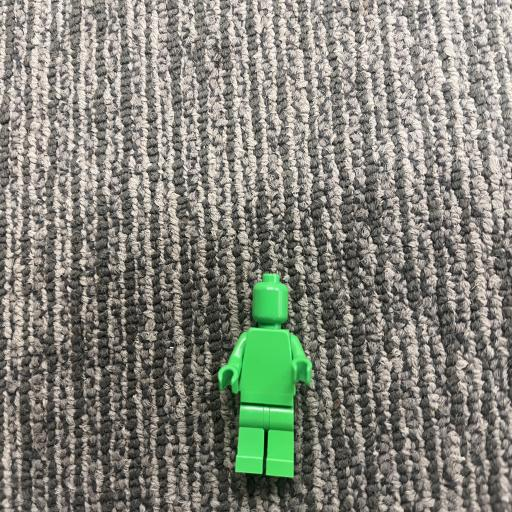Lego-Minifig: (218, 274, 312, 477)
